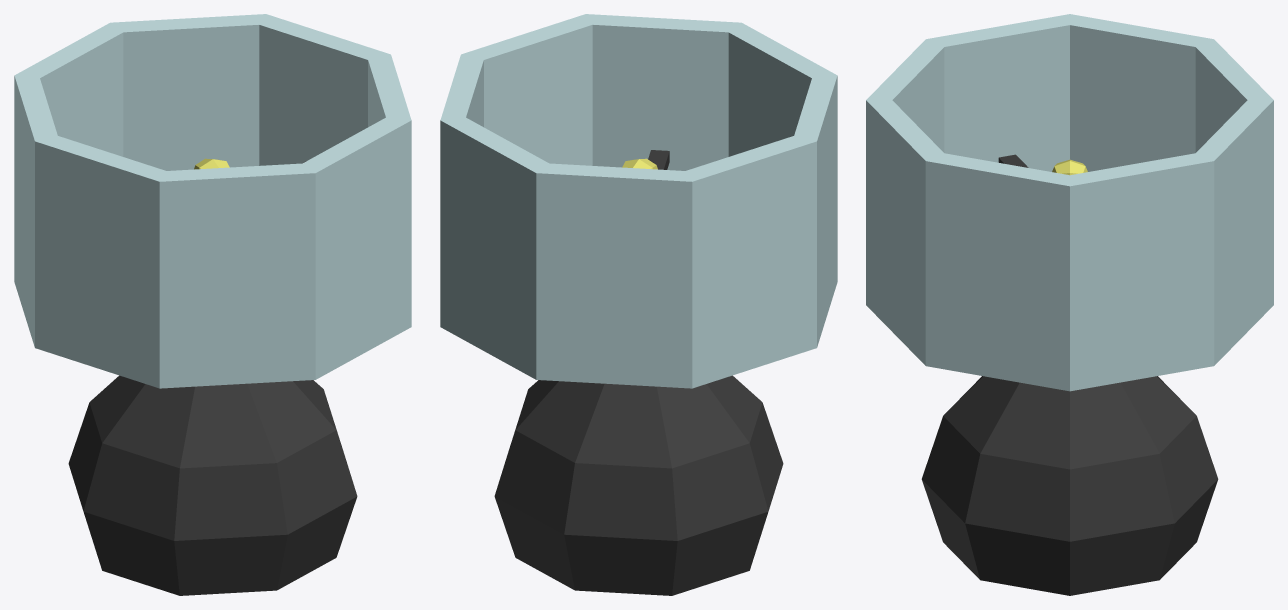
Rendered from SmallLamp.fbx.
3 views of the same model, side by side, from view 1: azimuth 30°, elevation 25°; view 2: azimuth 150°, elevation 25°; view 3: azimuth 270°, elevation 25° (orthographic).
Visible parts, largest first — view 1: SmallLampShade, SmallLamp; view 2: SmallLampShade, SmallLamp; view 3: SmallLampShade, SmallLamp.
Boxes of the visible parts, bbox=[...] form: SmallLampShade: bbox=[14, 14, 411, 388]; SmallLamp: bbox=[68, 161, 357, 595]; SmallLampShade: bbox=[440, 14, 837, 388]; SmallLamp: bbox=[494, 150, 783, 595]; SmallLampShade: bbox=[866, 14, 1273, 391]; SmallLamp: bbox=[921, 154, 1218, 595].
Size of the model in its own units: 161 by 192 by 161.
